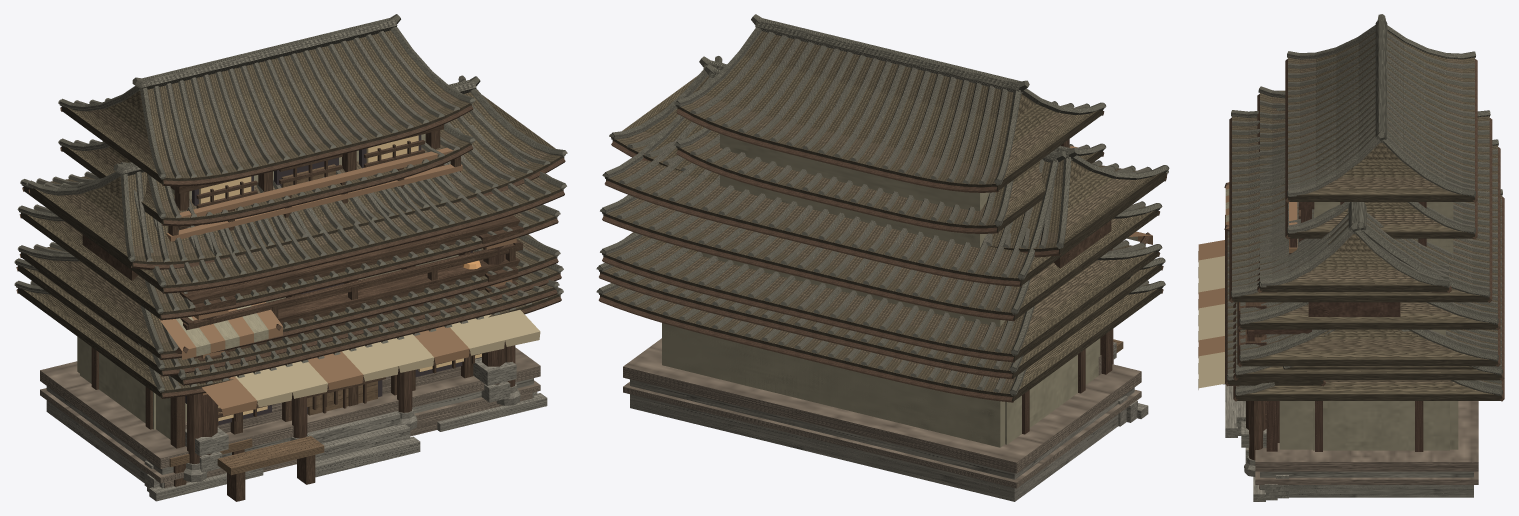
File: regional_village.glb
3 views of the same model, side by side, from view 1: azimuth 30°, elevation 25°; view 2: azimuth 150°, elevation 25°; view 3: azimuth 270°, elevation 25° (orthographic). The views are drawn at different scales.
Visible parts, largest first — view 1: hall, inn, gate, wing, shop, home, cottage; view 2: hall, wing, inn, home, cottage, gate; view 3: hall, inn, wing, gate, home, cottage, shop.
Part boxes in pixels (x1,y1,x2,y2): hall: (17,14,560,488); inn: (20,79,566,487); gate: (26,75,567,501); wing: (17,123,560,487); shop: (33,266,540,501); home: (14,258,563,447); cottage: (14,280,563,398); hall: (600,14,1162,501); wing: (600,127,1162,501); inn: (602,64,1168,444); home: (596,257,1165,446); cottage: (596,280,1165,402); gate: (609,56,1169,426); hall: (1225,14,1500,497); inn: (1225,107,1492,489); wing: (1225,201,1500,497); gate: (1224,86,1451,501); home: (1233,189,1504,451); cottage: (1233,379,1504,442); shop: (1198,240,1479,389).
Bounding box in the file's own units: 2.25 × 1.77 × 1.47.
1 material, 1 textured.
